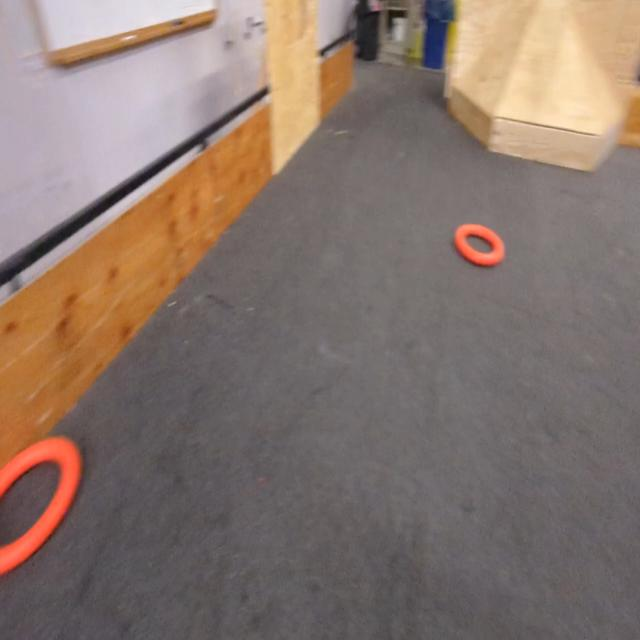note: (0, 437, 80, 585), (455, 223, 507, 267)
